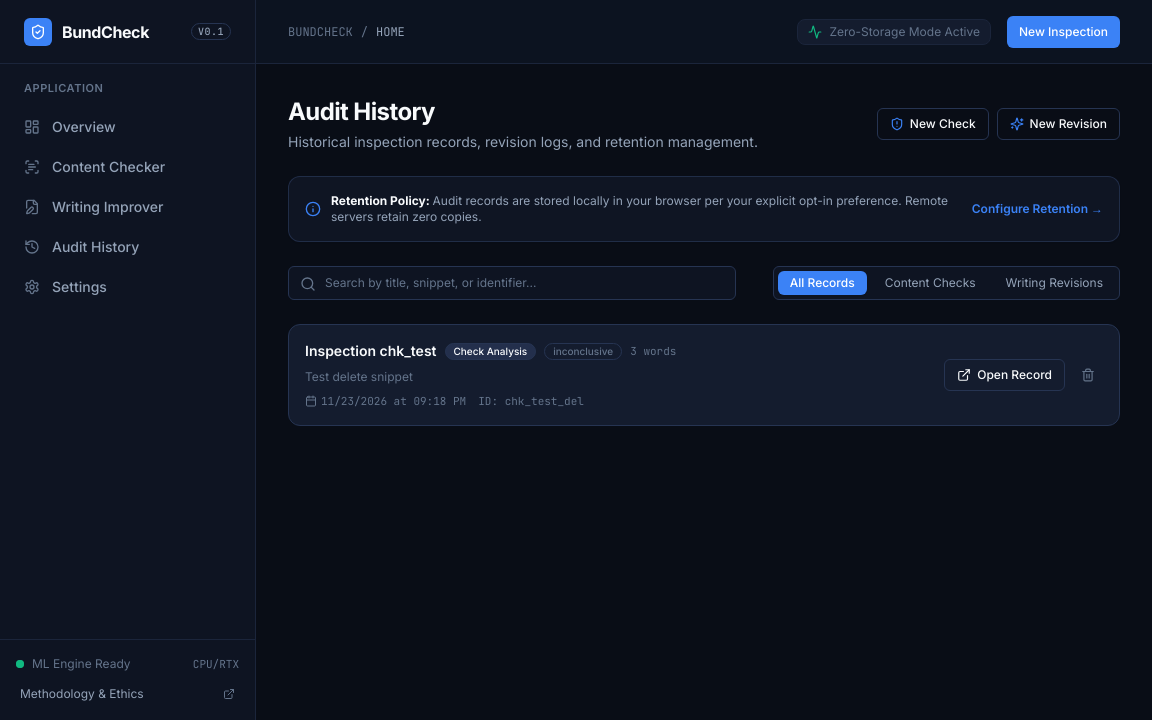
History Page Component › renders records when opt-in store has items and supports deletion dialog
Later steps or results of the test are not shown.
Expected: the text "Inspection chk_test" is shown, x1=305 y1=341 x2=436 y2=361
Click the button titled "Delete record": [1088, 375] box x1=1073 y1=359 x2=1103 y2=391
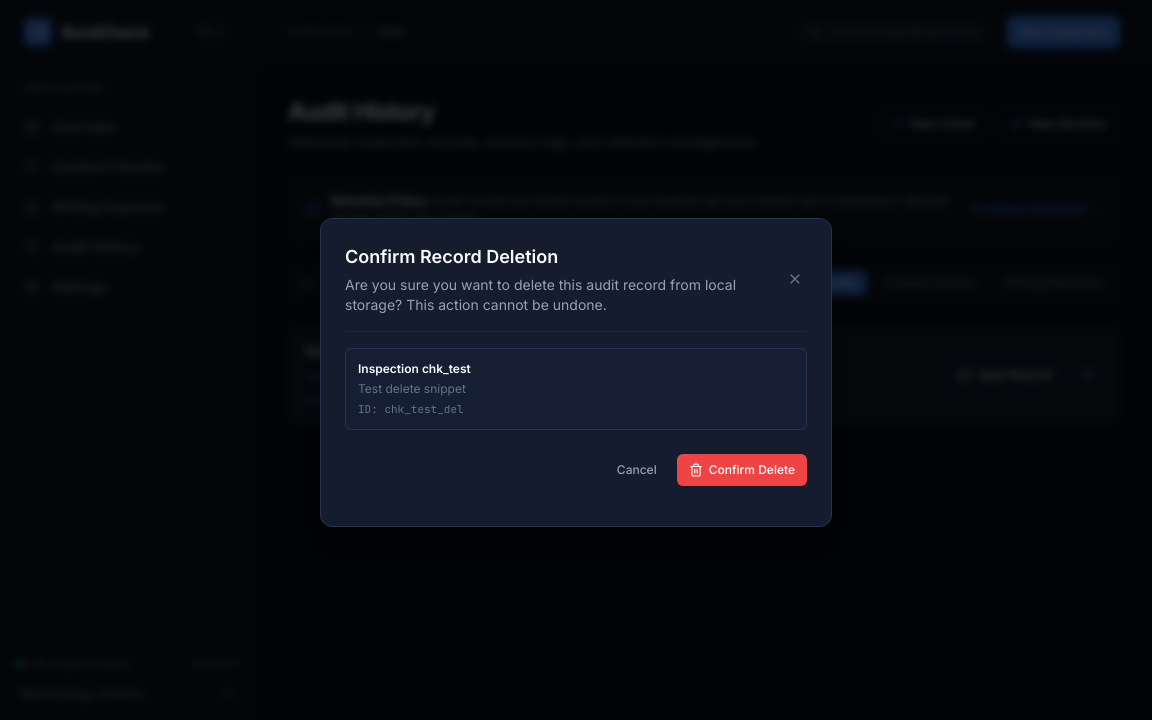
Expected: the heading "Confirm Record Deletion" is shown, x1=345 y1=246 x2=558 y2=266
